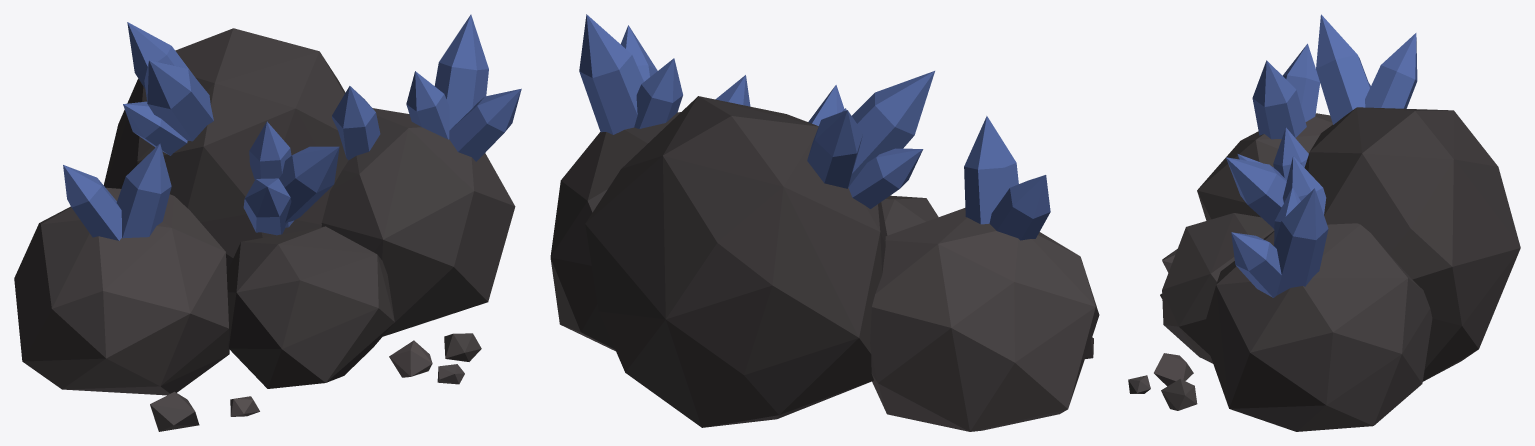
The model's file is sapphire-ore-deposit-f8a71a.glb.
3 renders of one model, left to right at view 1: azimuth 30°, elevation 25°; view 2: azimuth 150°, elevation 25°; view 3: azimuth 270°, elevation 25°, orthographic. The views are drawn at different scales.
Visible parts, largest first — view 1: rock, sapphire-crystals; view 2: rock, sapphire-crystals; view 3: rock, sapphire-crystals.
Boxes of the visible parts, x1,y1,x2,y2 form: rock: (14, 28, 515, 431); sapphire-crystals: (63, 14, 521, 240); rock: (550, 96, 1099, 431); sapphire-crystals: (579, 14, 1050, 240); rock: (1128, 107, 1520, 431); sapphire-crystals: (1226, 14, 1417, 297).
Bounding box in the file's own units: 1.46 × 0.9167 × 1.15.
